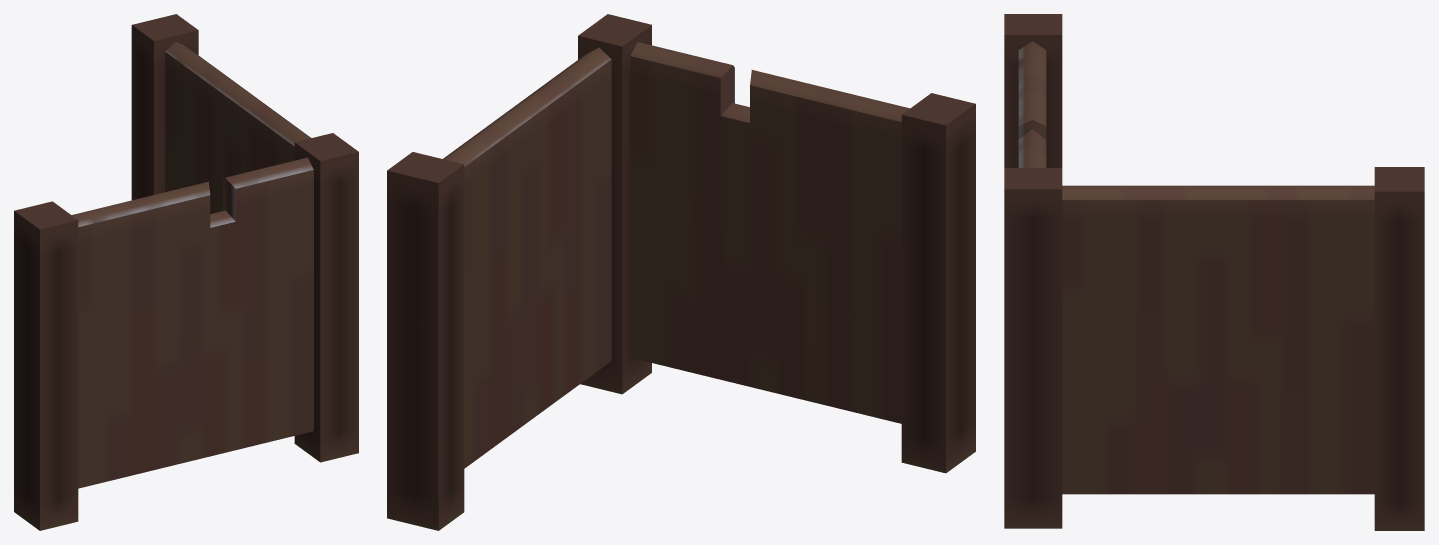
The model's file is fence_corner_end.fbx.
3 renders of one model, left to right at view 1: azimuth 30°, elevation 25°; view 2: azimuth 150°, elevation 25°; view 3: azimuth 270°, elevation 25°, orthographic. The views are drawn at different scales.
Parts seen in each view (by area): view 1: fence_corner_end; view 2: fence_corner_end; view 3: fence_corner_end.
Boxes of the visible parts, box(x1,y1,x2,y2) form: fence_corner_end: box(14, 14, 358, 530); fence_corner_end: box(387, 14, 975, 530); fence_corner_end: box(1004, 14, 1424, 530).
Bounding box in the file's own units: 230 × 205 × 230.
